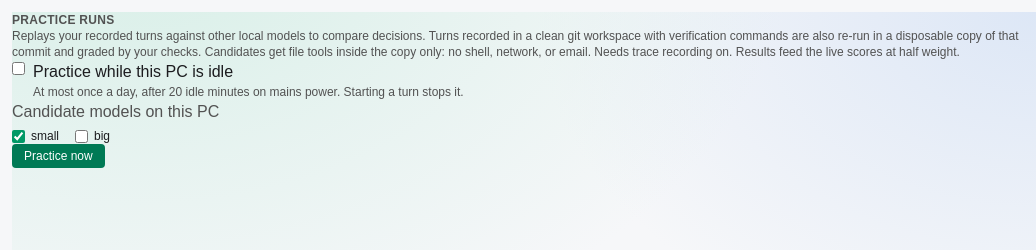
Test: PracticeSettings › shows why a run failed
Click the button "Practice now" at (58, 156), box 12,144 -> 105,168
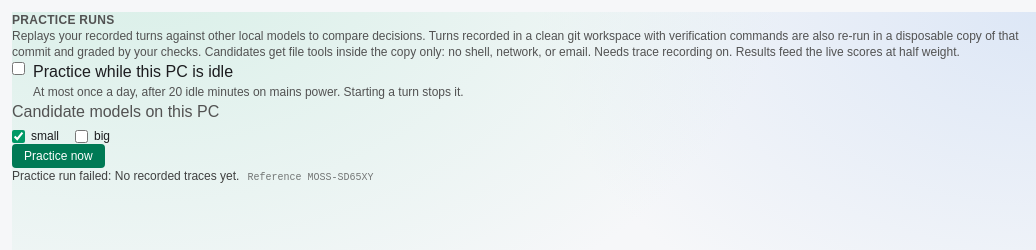
Expected: the message shows "Practice run failed: No recorded traces yet.", 12,169 -> 239,183
